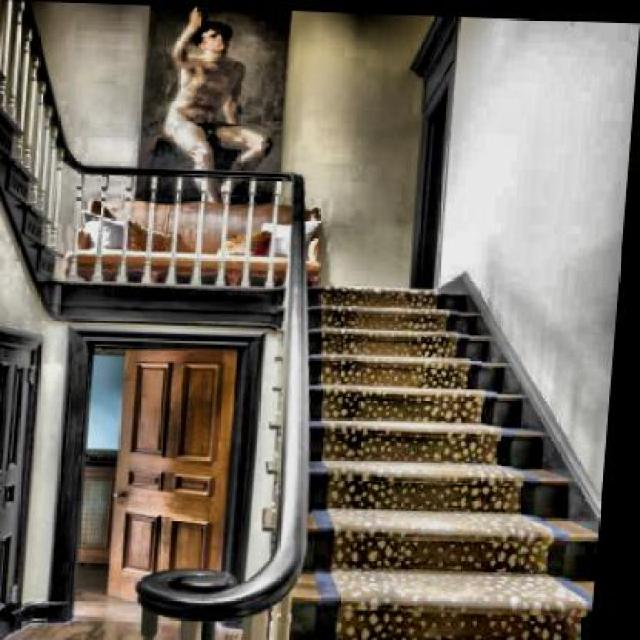stair: (277, 284, 621, 638)
